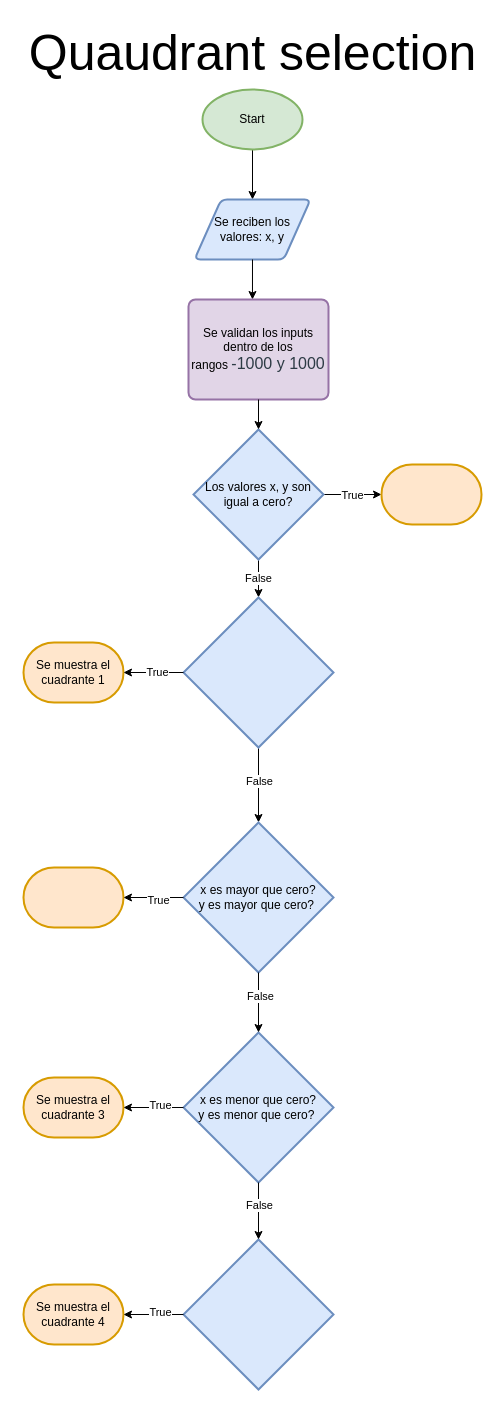
The diagram is 504 pixels wide and 1407 high, and some of its shapes have lost their labels. The centre of each missing label's shape, as x and y in pixels:
Se muestra "?": [431,494]
Se muestra el cuadrante 2: [73,897]
x es mayor que cero? y es menor que cero?: [258,1314]
x es menor que cero? y es mayor que cero?: [258,672]
